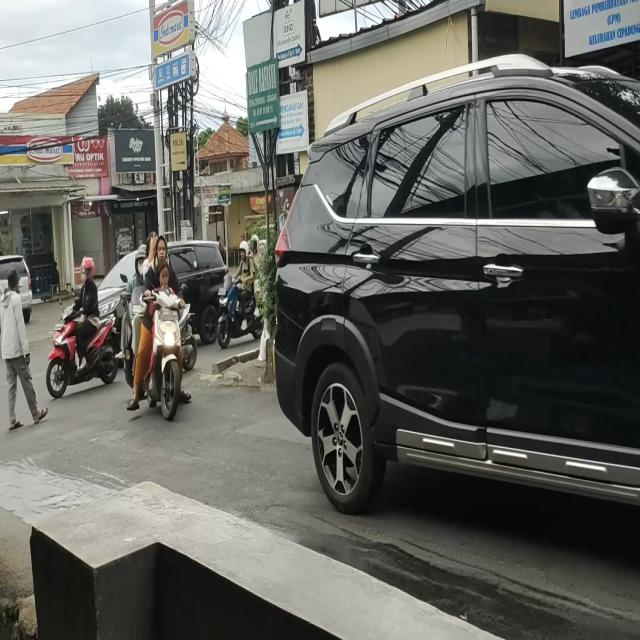helmet: (80, 258, 96, 292), (135, 248, 145, 272), (251, 234, 260, 254), (240, 239, 248, 260)
no-helmet: (156, 237, 168, 262), (157, 264, 169, 289), (147, 232, 158, 255)
